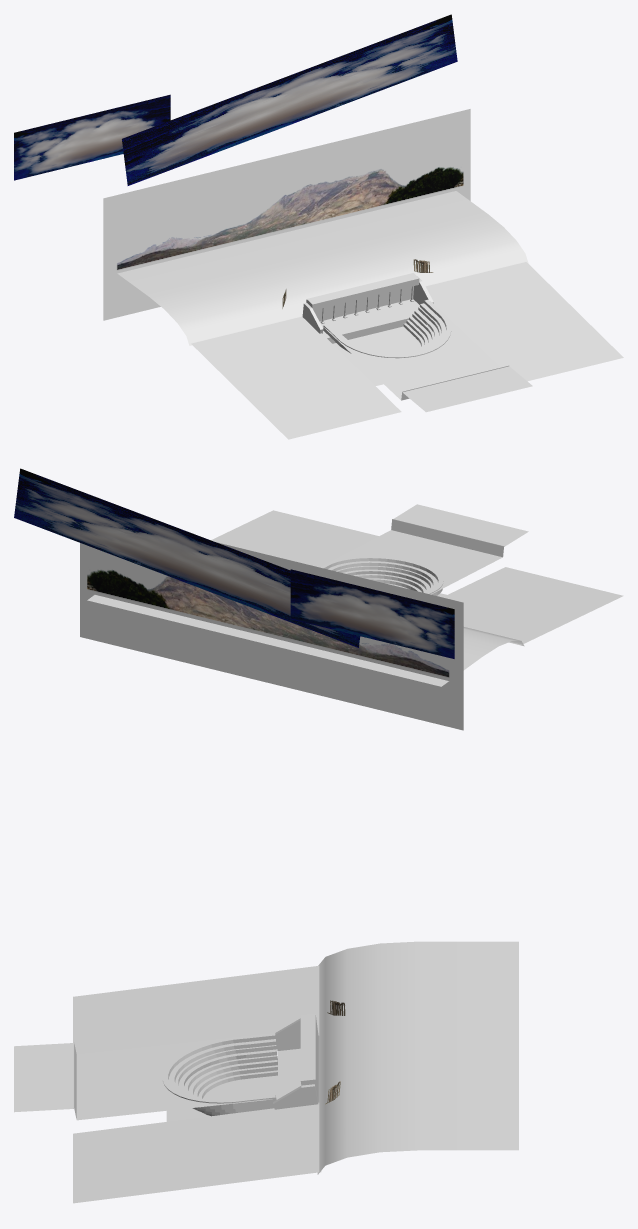
The model's file is Greek_Arena.fbx.
3 renders of one model, top to bottom at view 1: azimuth 30°, elevation 25°; view 2: azimuth 150°, elevation 25°; view 3: azimuth 270°, elevation 25°, orthographic. The views are drawn at different scales.
Parts seen in each view (by area): view 1: Montagne, Collina, Collina2, Nuvola1, Pavimento, Nuvola2, Palco, Arena, Spalti1, Spalti2; view 2: Montagne, Nuvola1, Collina2, Nuvola2, Pavimento, Collina, Spalti1; view 3: Collina, Collina2, Pavimento, Spalti1, Palco, Spalti2, Arena.
Boxes of the visible parts, x1,y1,x2,y2 form: Montagne: (103, 109, 470, 320); Collina: (117, 191, 528, 345); Collina2: (191, 262, 623, 439); Nuvola1: (122, 14, 457, 185); Pavimento: (323, 301, 532, 412); Nuvola2: (14, 94, 170, 180); Palco: (302, 273, 433, 343); Arena: (332, 326, 421, 386); Spalti1: (335, 311, 451, 358); Spalti2: (323, 299, 440, 344); Montagne: (80, 542, 463, 730); Nuvola1: (14, 468, 360, 647); Collina2: (211, 510, 623, 644); Nuvola2: (290, 569, 454, 658); Pavimento: (330, 504, 528, 594); Collina: (87, 595, 524, 686); Spalti1: (323, 556, 443, 595); Collina: (317, 941, 518, 1174); Collina2: (73, 966, 321, 1203); Pavimento: (14, 1038, 272, 1120); Spalti1: (162, 1036, 247, 1116); Palco: (273, 1013, 318, 1109); Spalti2: (244, 1033, 277, 1111); Arena: (166, 1075, 277, 1121).
Bounding box in the file's own units: 4038 × 1672 × 3907.
